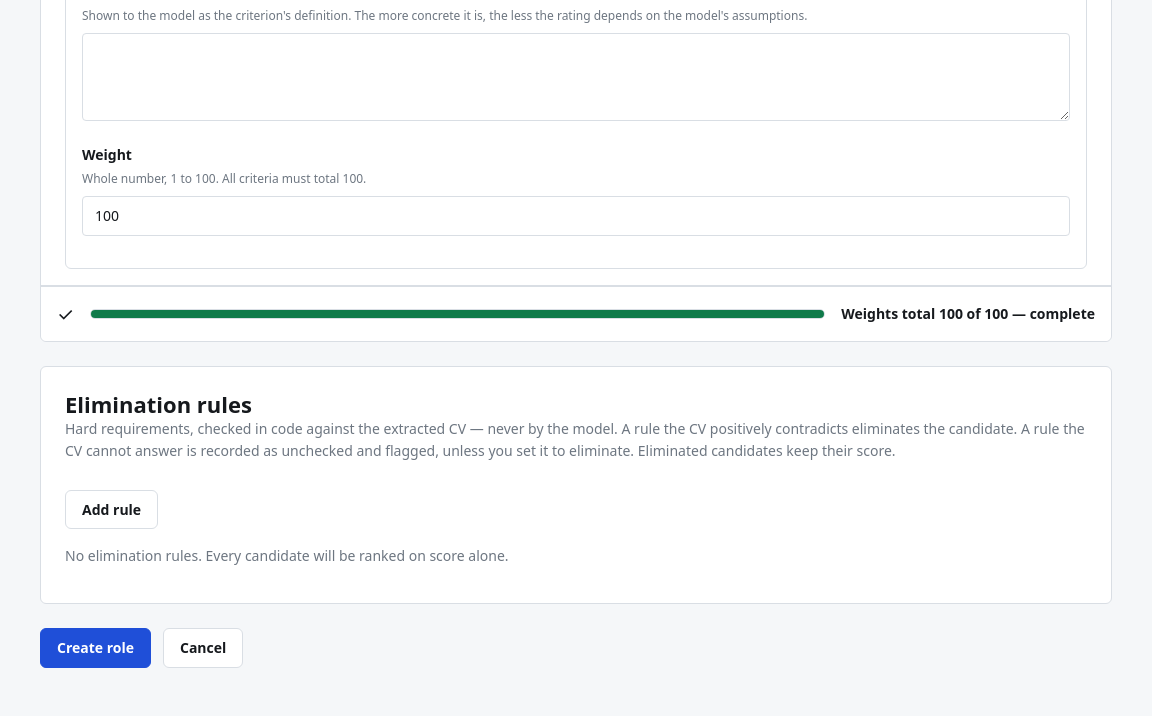
Test: /roles/new › saving an incomplete role shows a summary and sends no request
(page scrolled)
What coordinates should you click on to do the following:
click the button "Create role"
I would click on:
 (96, 648)
Its box is [40, 628, 151, 668].
(page scrolled)
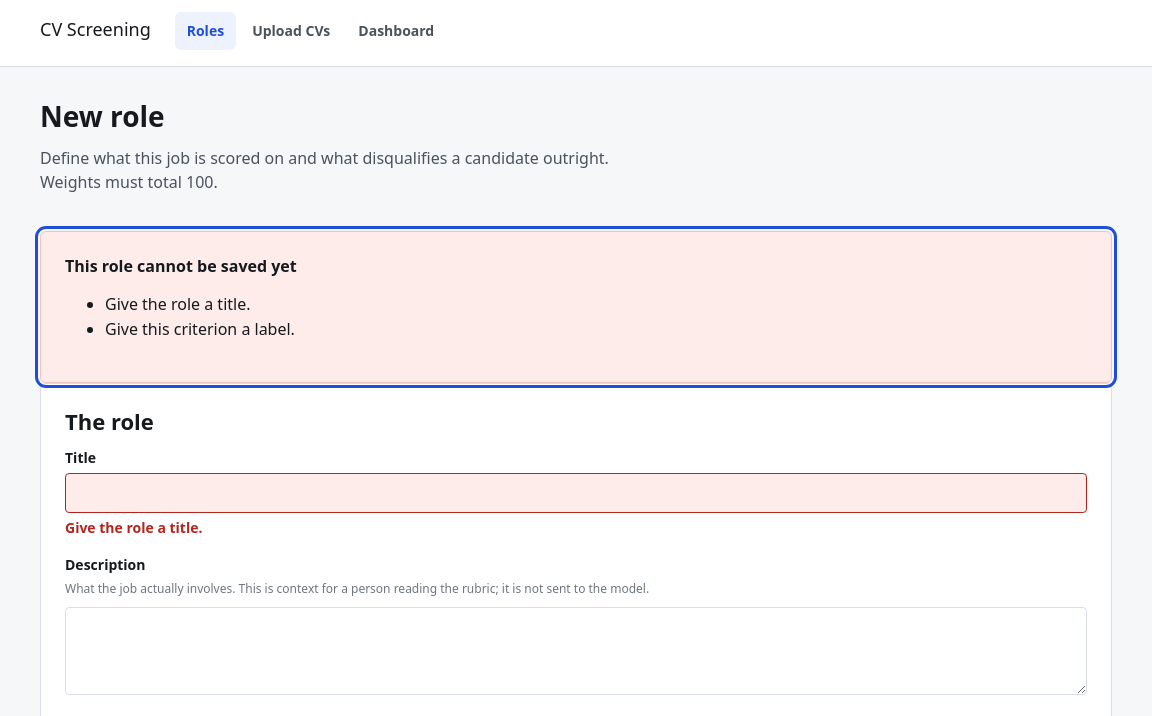
Now the heading "This role cannot be saved yet" is shown, box [65, 255, 297, 277]
Now the number of list items "Give the role a title." is 2, box [105, 293, 250, 315]; [65, 518, 202, 537]
